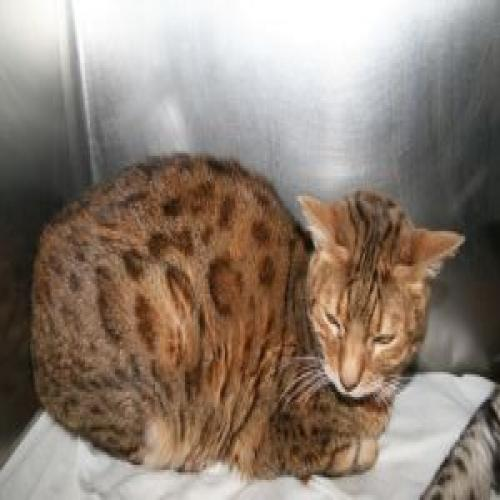cat-face: (291, 177, 449, 413)
